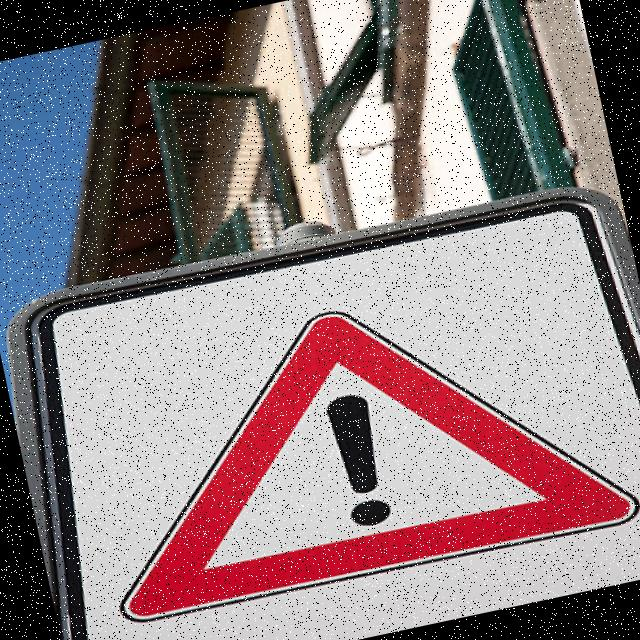warning: (61, 246, 640, 640)
